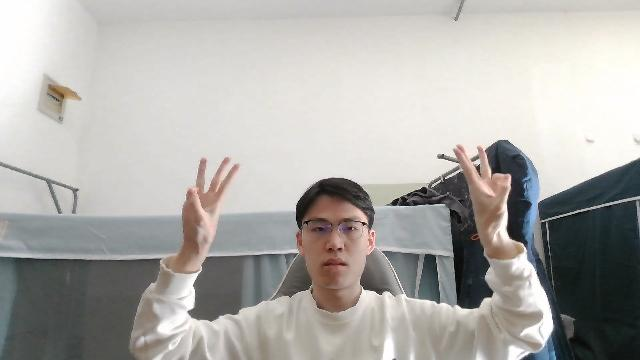three: (174, 152, 239, 263), (451, 139, 513, 250)
